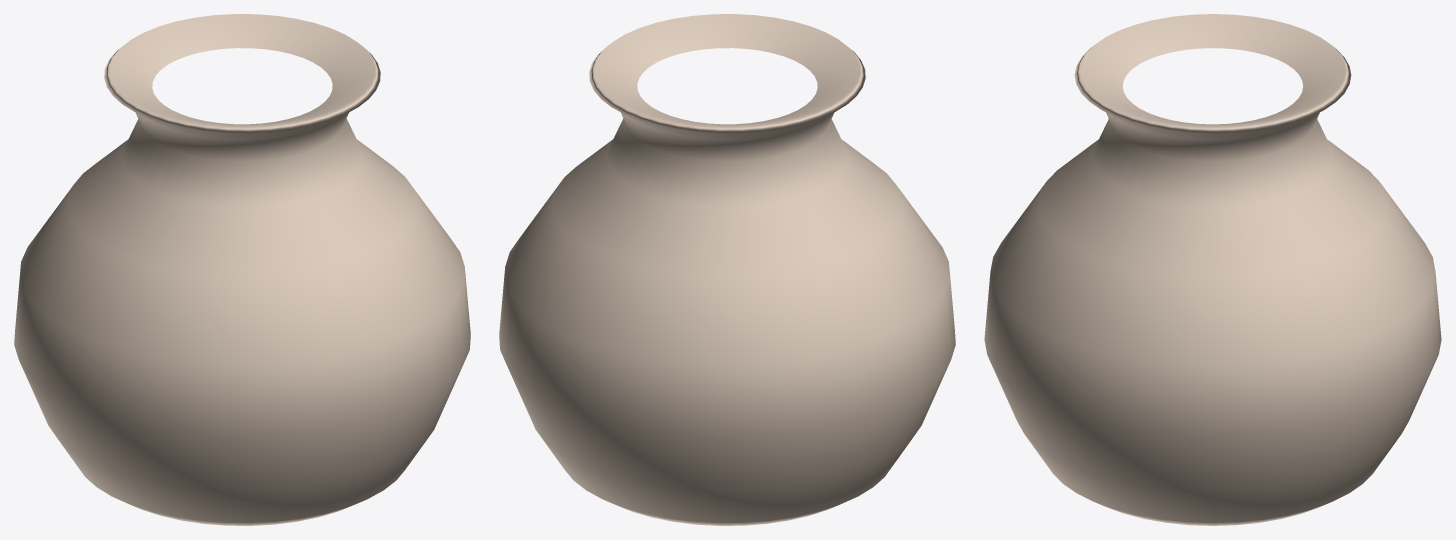
Rendered from vase.glb.
3 renders of one model, left to right at view 1: azimuth 30°, elevation 25°; view 2: azimuth 150°, elevation 25°; view 3: azimuth 270°, elevation 25°, orthographic.
Visible parts, largest first — view 1: Vase; view 2: Vase; view 3: Vase.
Part boxes in pixels (x1,y1,x2,y2): Vase: (14, 14, 470, 525); Vase: (499, 14, 955, 525); Vase: (984, 14, 1441, 525).
Size of the model in its own units: 1.52 by 1.44 by 1.52.
